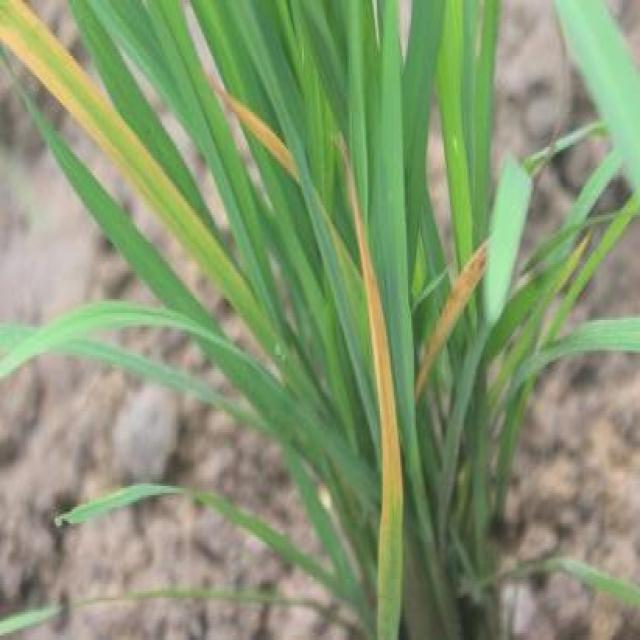Tungro: (1, 0, 223, 259), (344, 158, 416, 636), (418, 234, 490, 412)
